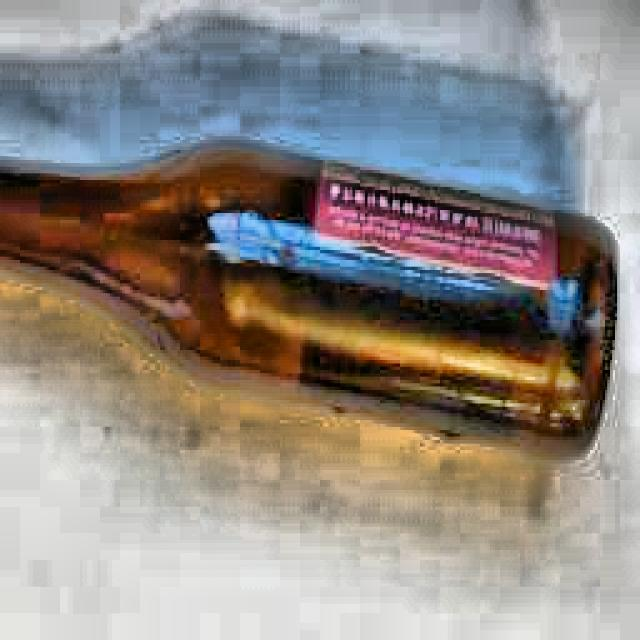glass: (0, 136, 623, 467)
